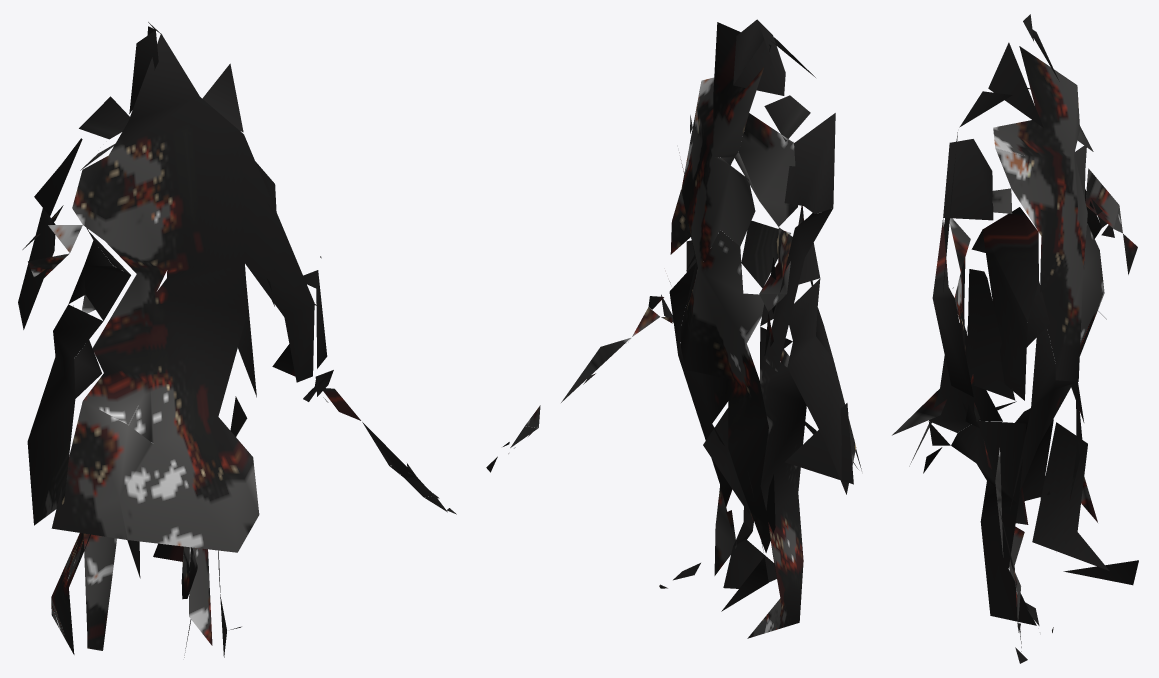
3 renders of one model, left to right at view 1: azimuth 30°, elevation 25°; view 2: azimuth 150°, elevation 25°; view 3: azimuth 270°, elevation 25°, orthographic. The views are drawn at different scales.
Visible parts, largest first — view 1: body.002; view 2: body.002; view 3: body.002.
Part boxes in pixels (box(x1,y1,x2,y2)): body.002: box(18, 22, 456, 657); body.002: box(486, 19, 861, 638); body.002: box(892, 14, 1138, 663).
Bounding box in the file's own units: 1.34 × 2.02 × 0.7842.
Materials: 1 (1 with a texture image).
